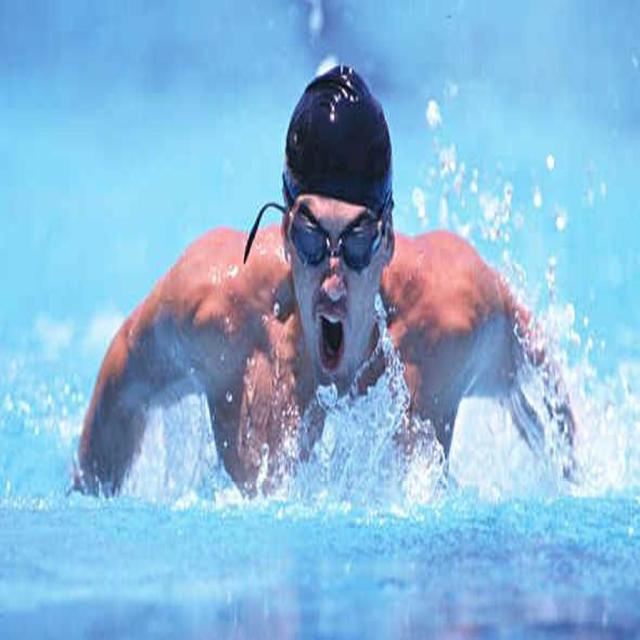Face: (284, 169, 391, 382)
